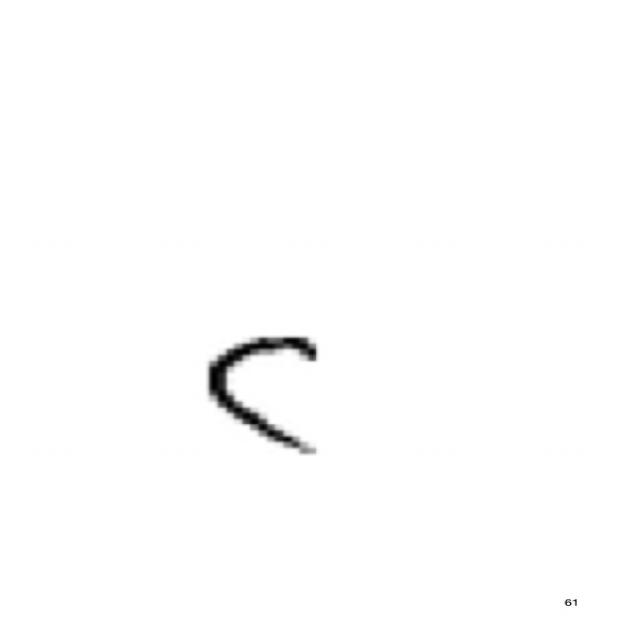2 -two-: (194, 326, 340, 464)
